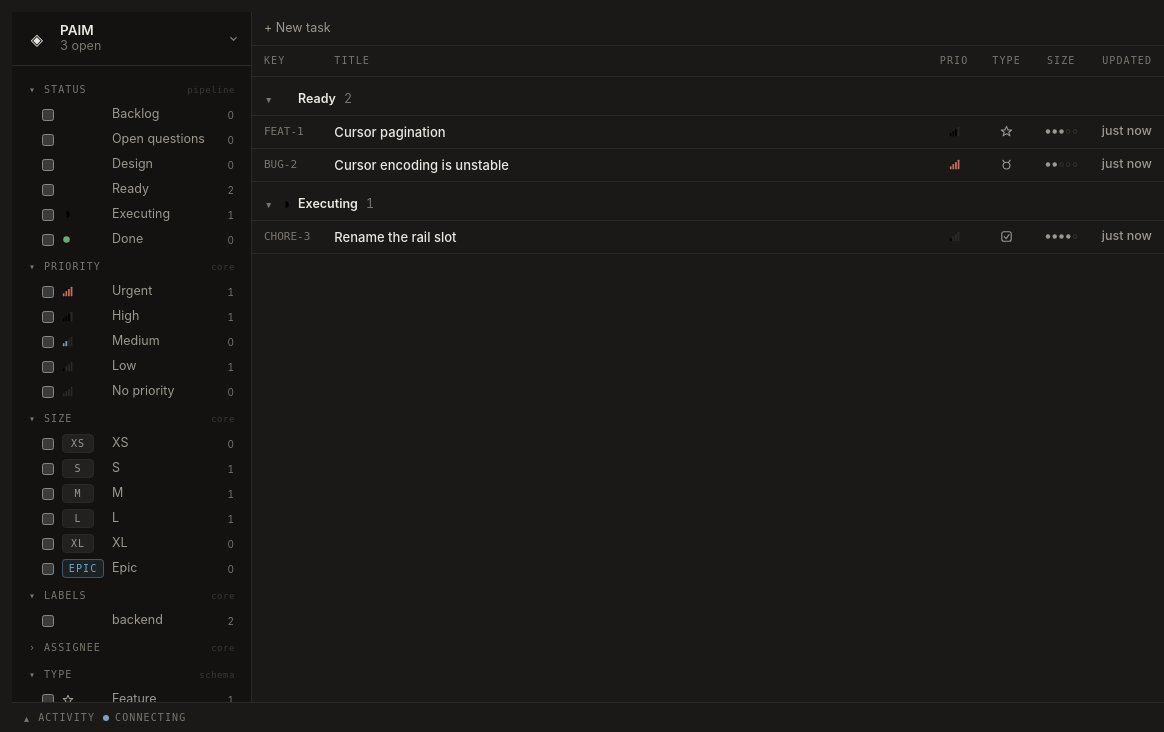
Test: the rail filters the set through the address › clears every facet from the footer, which counts the checked values
What coordinates should you click on to do the following:
click the checkbox labelled "Ready 2"
I would click on:
 (48, 190)
Its box is top-left (42, 184), bottom-right (54, 196).
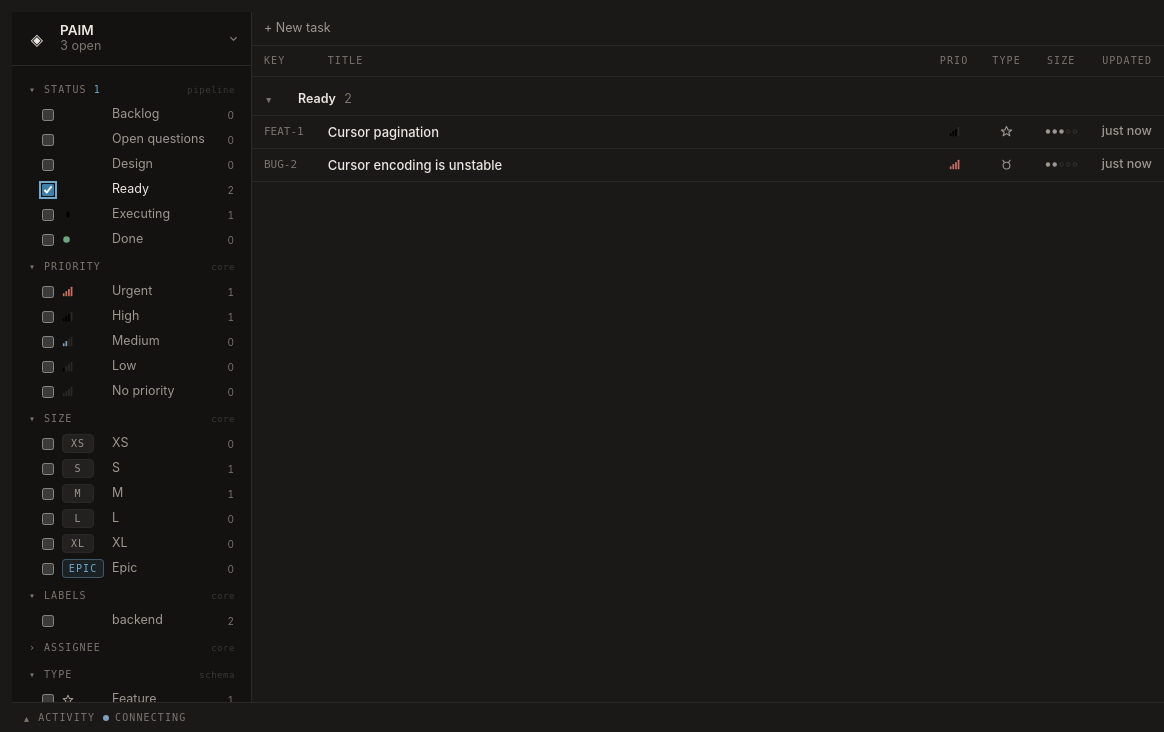
What coordinates should you click on to do the following:
click the checkbox labelled "Urgent 1"
I would click on:
 (48, 292)
Its box is top-left (42, 286), bottom-right (54, 298).
(page scrolled)
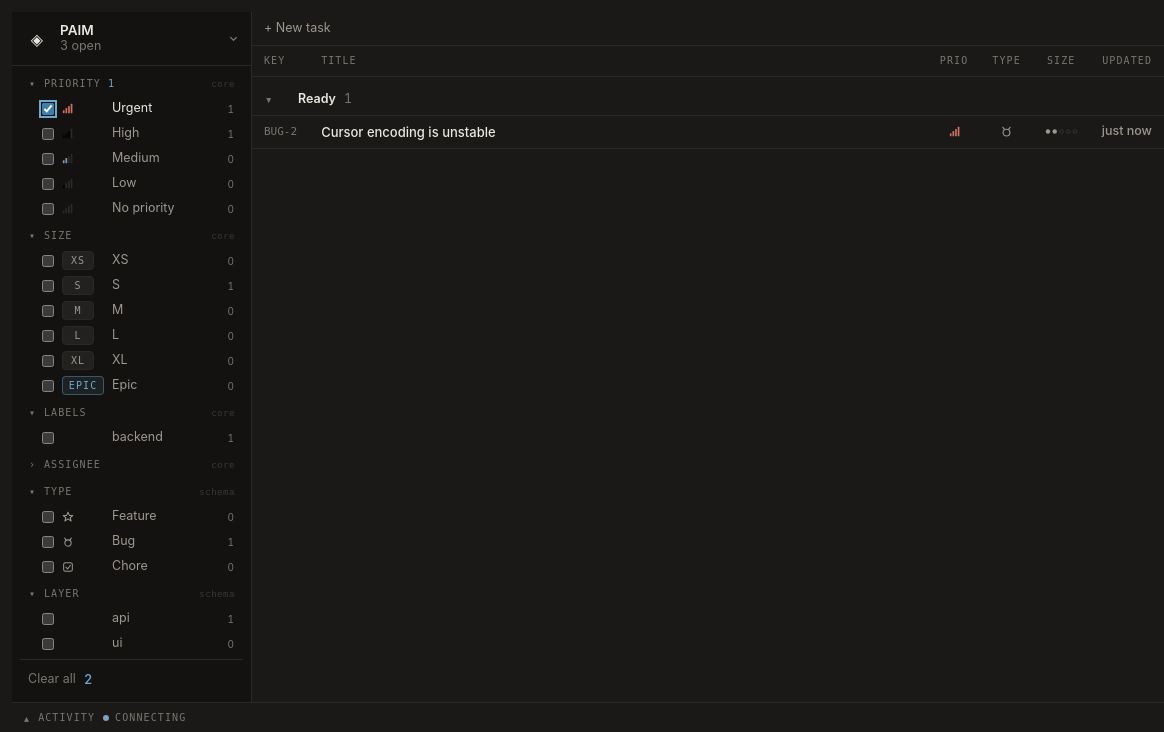
Expected: the text with test id "active-filters" reads "2", top-left (84, 671), bottom-right (92, 687)
What coordinates should you click on to do the following:
click the button "Clear all"
I would click on:
 (52, 680)
Its box is top-left (28, 671), bottom-right (76, 688).
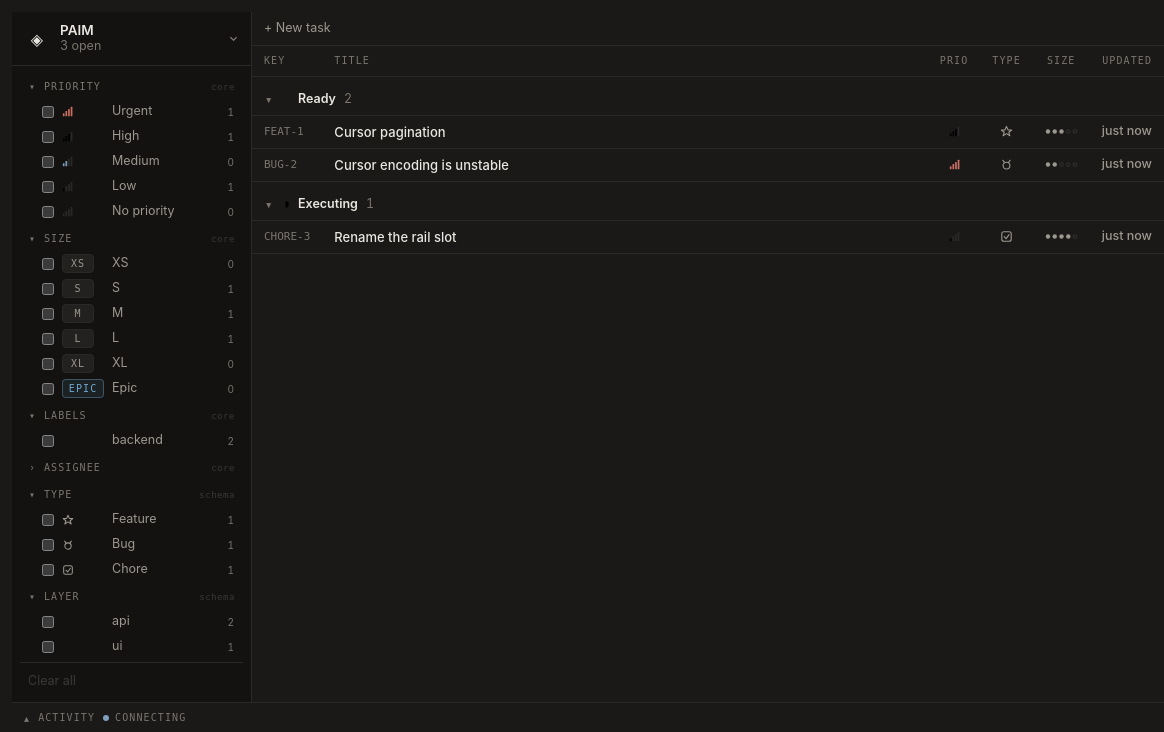
Now the text with test id "active-filters" is gone
